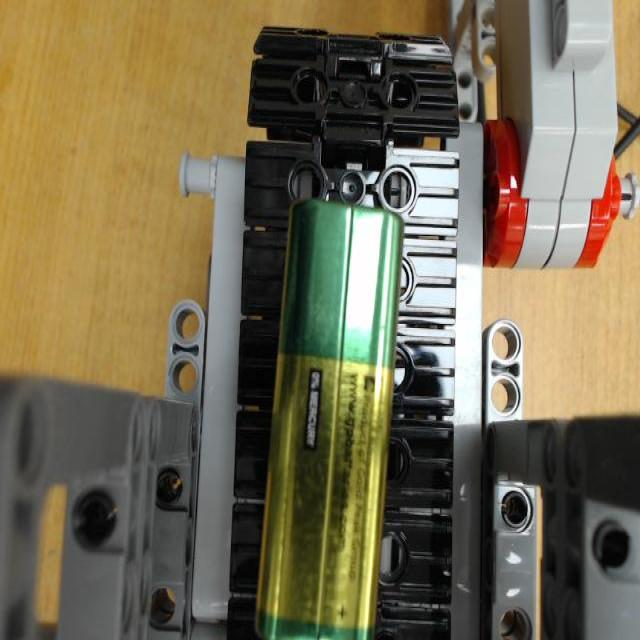9V: (256, 193, 407, 640)
